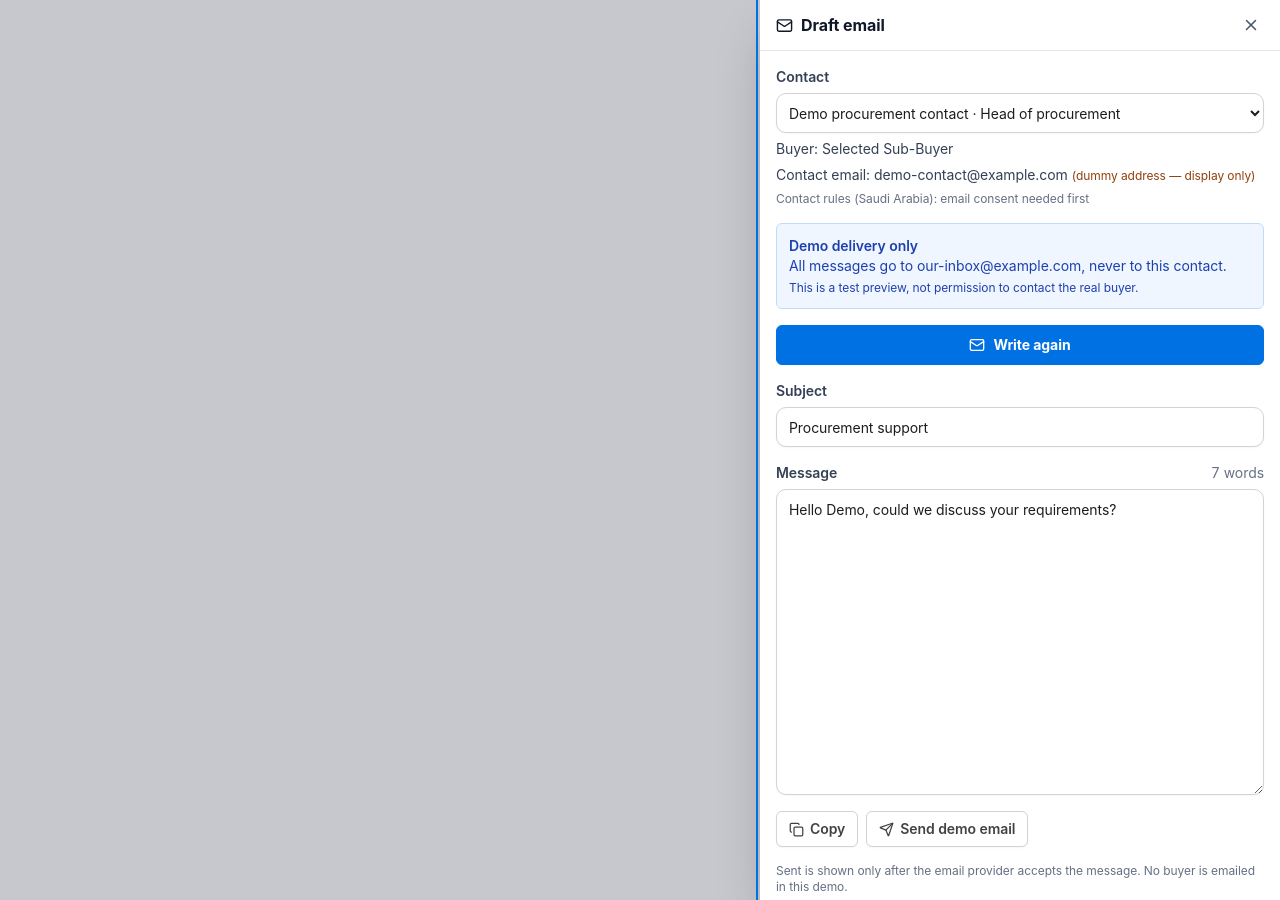
Scenario: DraftPanel › opens a template automatically for a dummy contact and sends to the configured test inbox
The width and height of the screenshot is (1280, 900).
Expected: the text box labelled "Message 7 words" is shown, [776,489,1264,795]
Expected: the text "Buyer: Selected Sub-Buyer" is shown, [776,140,953,157]
Click the button "Send demo email". click: [947, 829]
box: [866,811,1028,847]
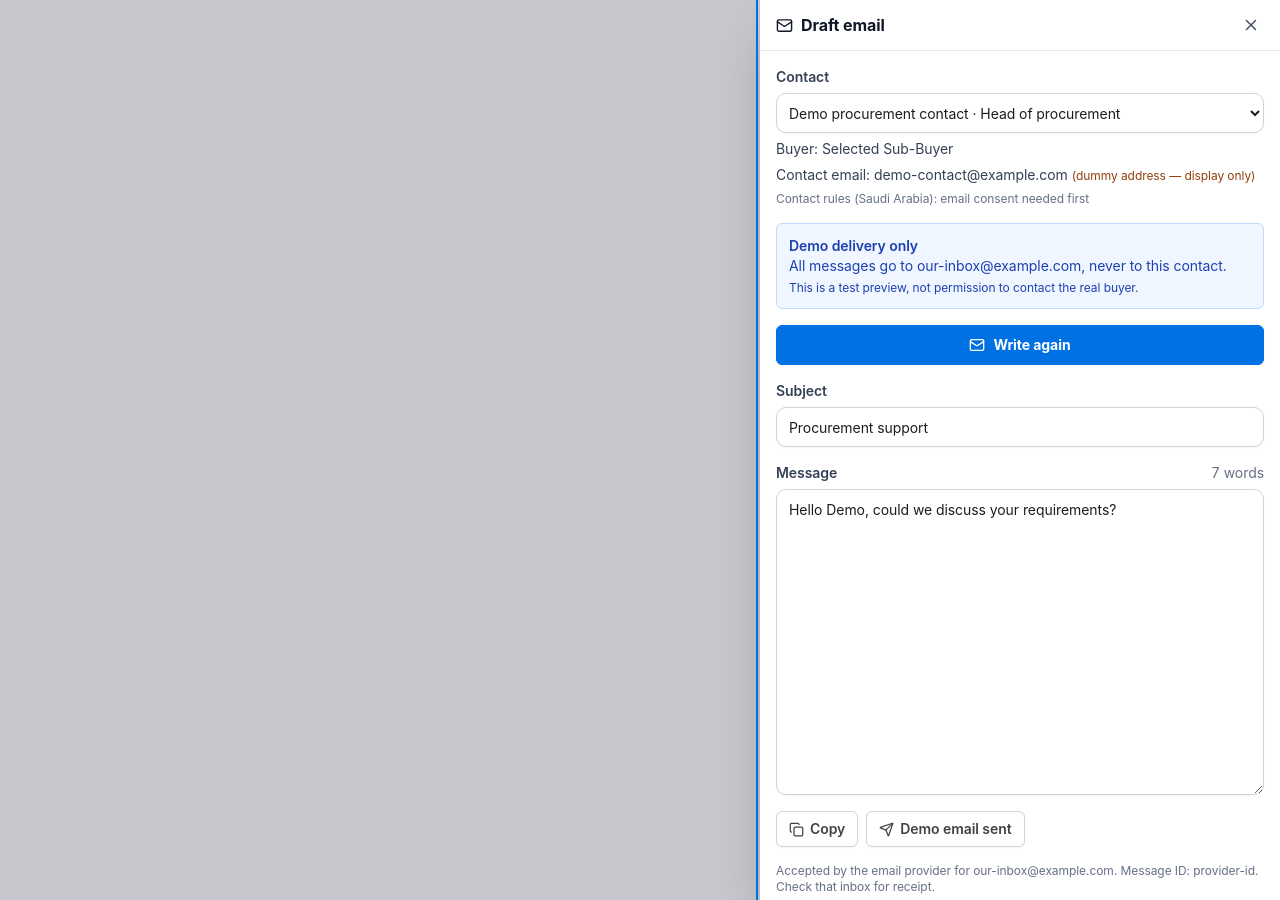
Now the button "Demo email sent" is shown, box [866,811,1025,847]
